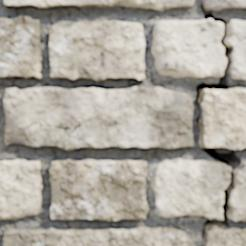brick: (4, 87, 192, 149), (50, 160, 147, 220), (49, 21, 144, 79), (29, 227, 190, 245), (200, 88, 245, 148), (0, 160, 42, 219), (0, 17, 41, 77), (4, 0, 192, 9), (204, 228, 245, 245), (3, 229, 31, 245), (202, 0, 245, 9)
broken_brick: (150, 158, 229, 218), (150, 19, 224, 78), (230, 19, 245, 79), (229, 169, 245, 222)
crack: (194, 2, 245, 243), (26, 229, 34, 245)
